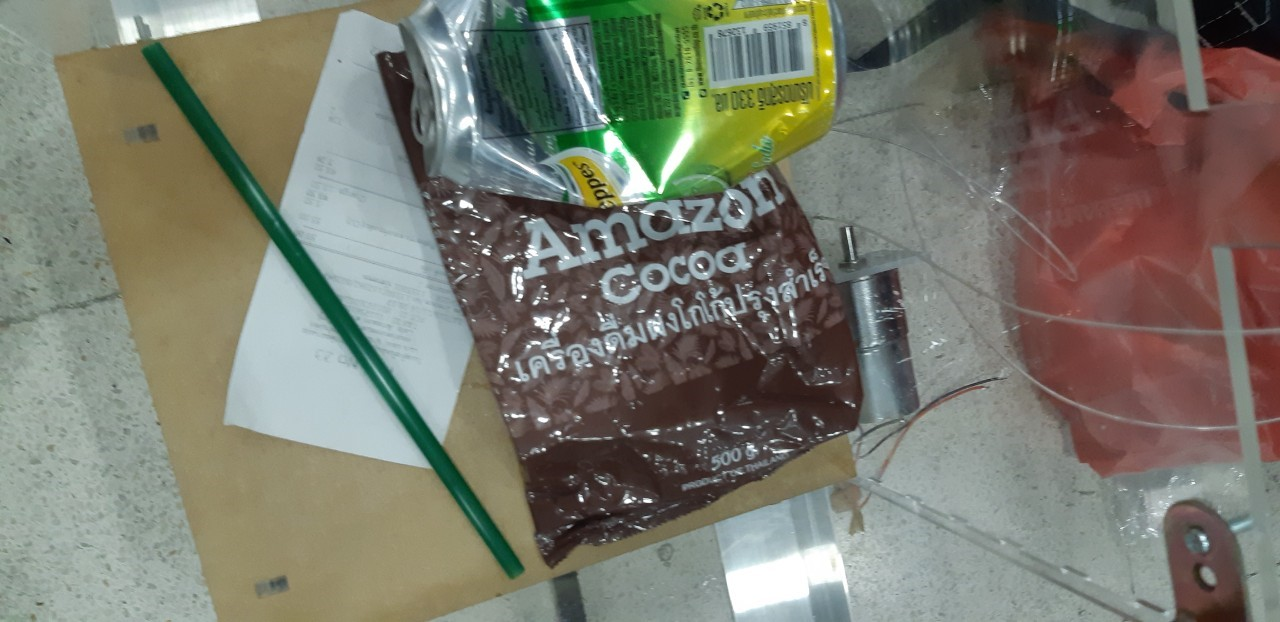AlCan: (404, 2, 855, 197)
Others: (134, 43, 525, 580), (435, 187, 870, 556), (225, 5, 474, 463)
